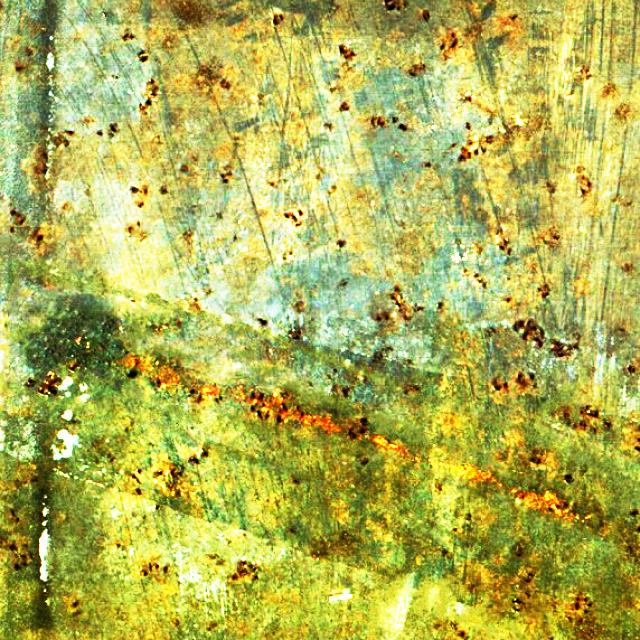Corrosion: (233, 389, 342, 432), (124, 353, 179, 390), (512, 490, 574, 518), (450, 465, 499, 484), (370, 435, 405, 453), (199, 382, 218, 399)
